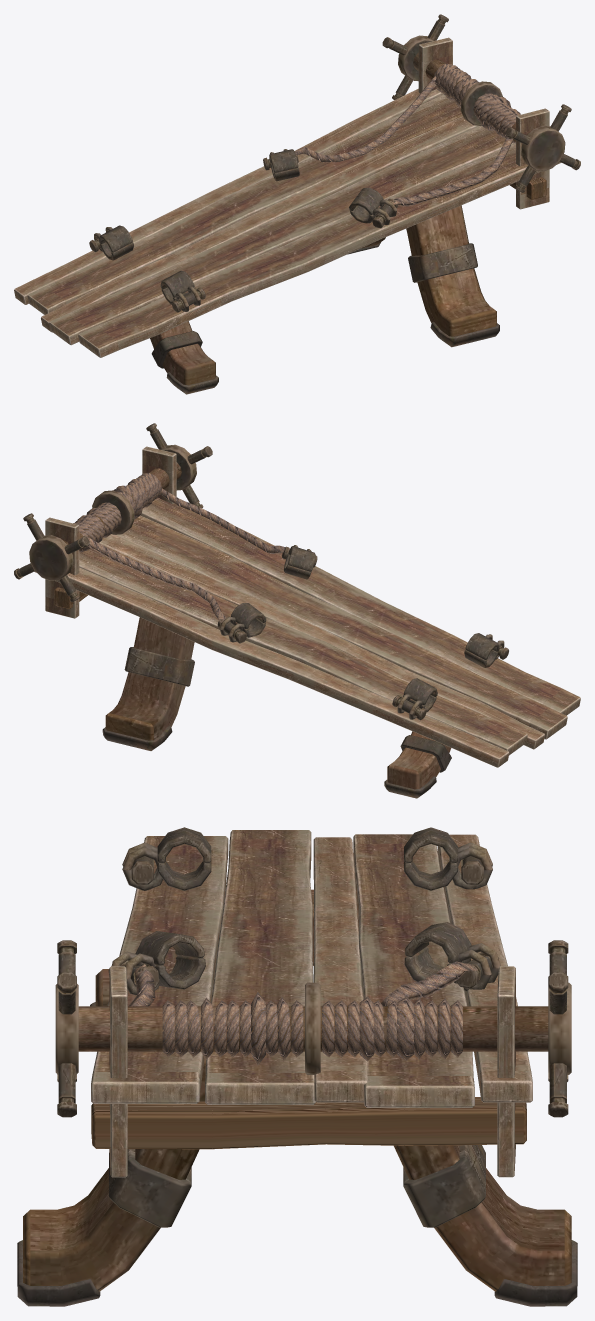
3 renders of one model, top to bottom at view 1: azimuth 30°, elevation 25°; view 2: azimuth 150°, elevation 25°; view 3: azimuth 270°, elevation 25°, orthographic. The views are drawn at different scales.
Parts seen in each view (by area): view 1: SM_DR_Torture_Table_01_LOD0; view 2: SM_DR_Torture_Table_01_LOD0; view 3: SM_DR_Torture_Table_01_LOD0.
Boxes of the visible parts, left/top/right/bottom form: SM_DR_Torture_Table_01_LOD0: left=14, top=14, right=580, bottom=394; SM_DR_Torture_Table_01_LOD0: left=14, top=423, right=580, bottom=798; SM_DR_Torture_Table_01_LOD0: left=17, top=827, right=577, bottom=1306.
Size of the model in its own units: 4.11 by 1.72 by 2.12.
Materials: 4 (4 with a texture image).
